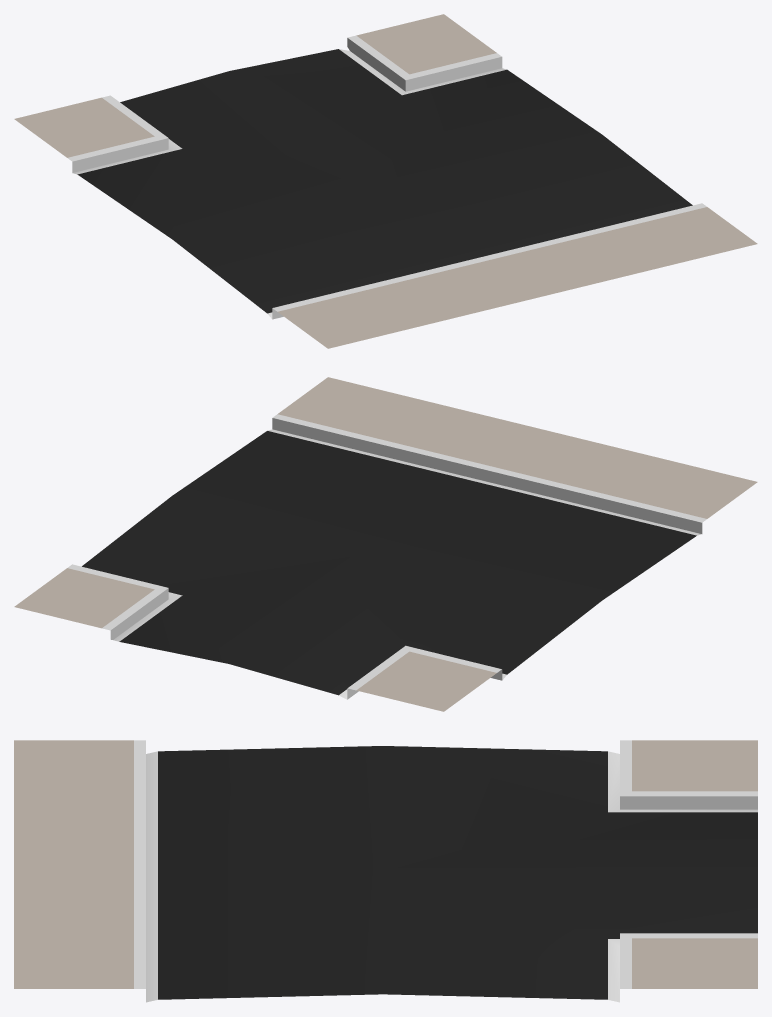
Rendered from Cruzamento_T_2x3_Faixas.fbx.
3 renders of one model, top to bottom at view 1: azimuth 30°, elevation 25°; view 2: azimuth 150°, elevation 25°; view 3: azimuth 270°, elevation 25°, orthographic. The views are drawn at different scales.
Parts seen in each view (by area): view 1: Cruzamento_T_2x3_Faixas; view 2: Cruzamento_T_2x3_Faixas; view 3: Cruzamento_T_2x3_Faixas.
Part boxes in pixels (left/top/right/bottom): Cruzamento_T_2x3_Faixas: left=14, top=14, right=757, bottom=348; Cruzamento_T_2x3_Faixas: left=14, top=377, right=757, bottom=711; Cruzamento_T_2x3_Faixas: left=14, top=740, right=757, bottom=1002.
Size of the model in its own units: 980 by 25 by 1240.
